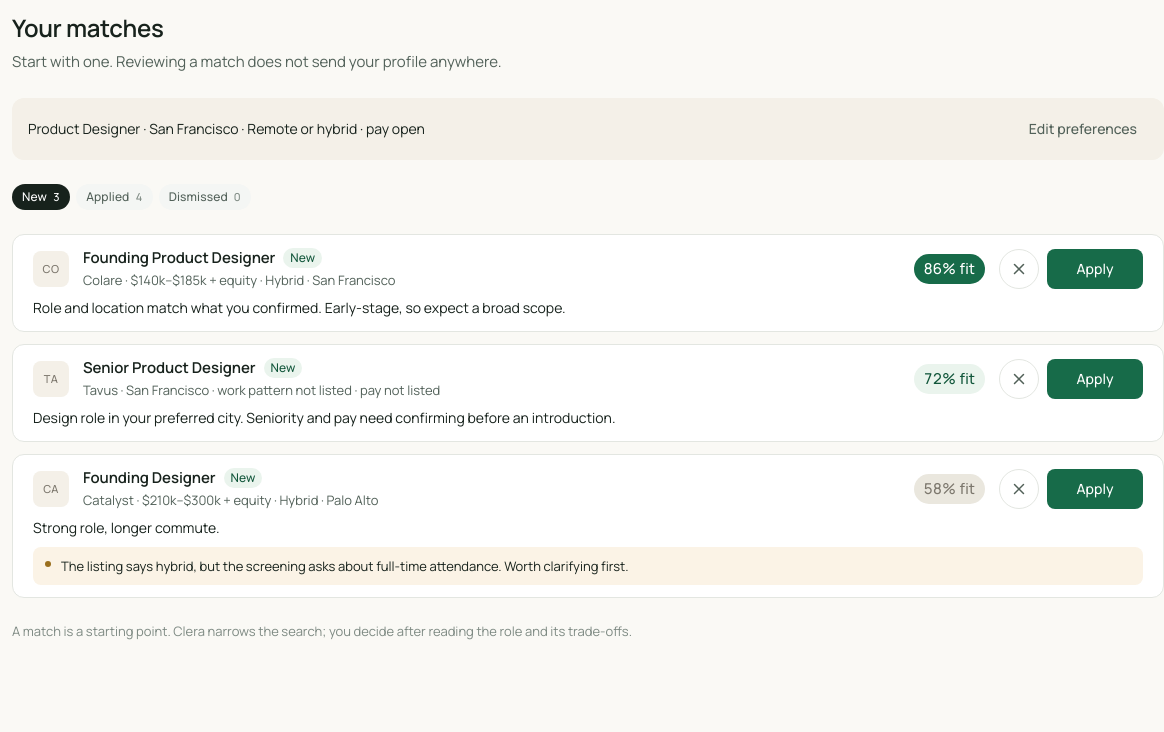
Test case: B1 · Matches › shows an empty state per tab
This screenshot has width=1164, height=732.
Click the tab "Dismissed 0" at (205, 197), box [159,184,251,210]
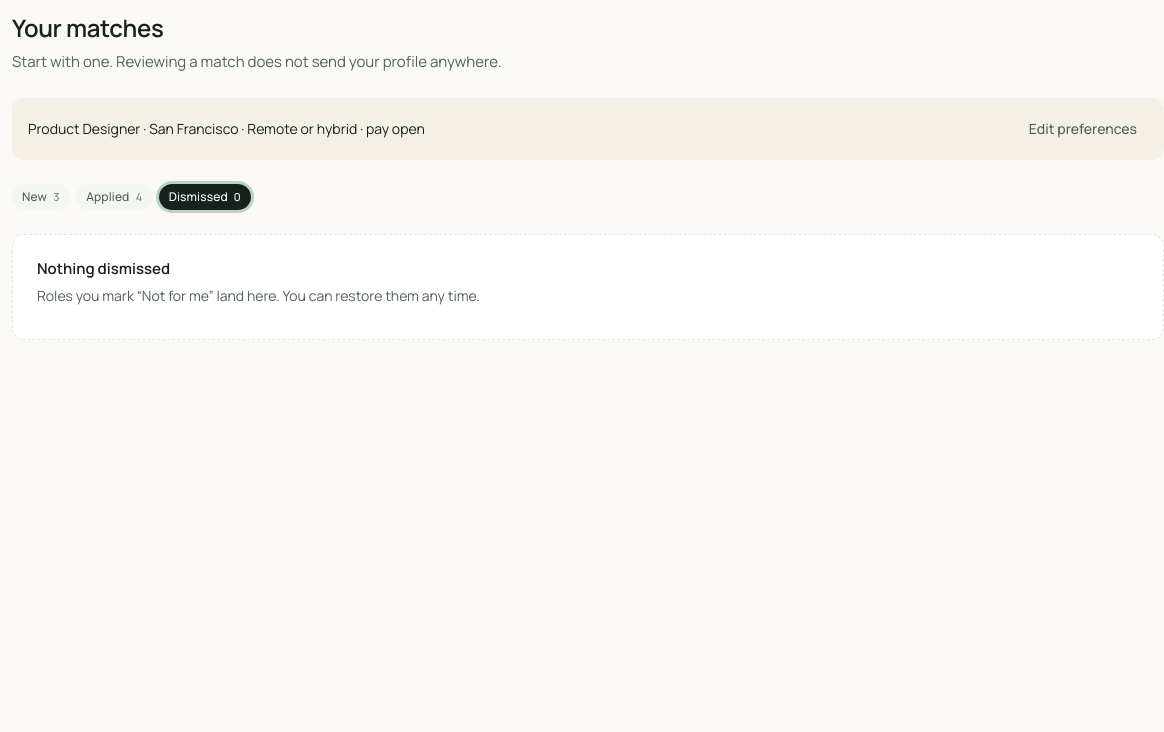
Expected: the text "Nothing dismissed" is shown, [37,259,170,279]
